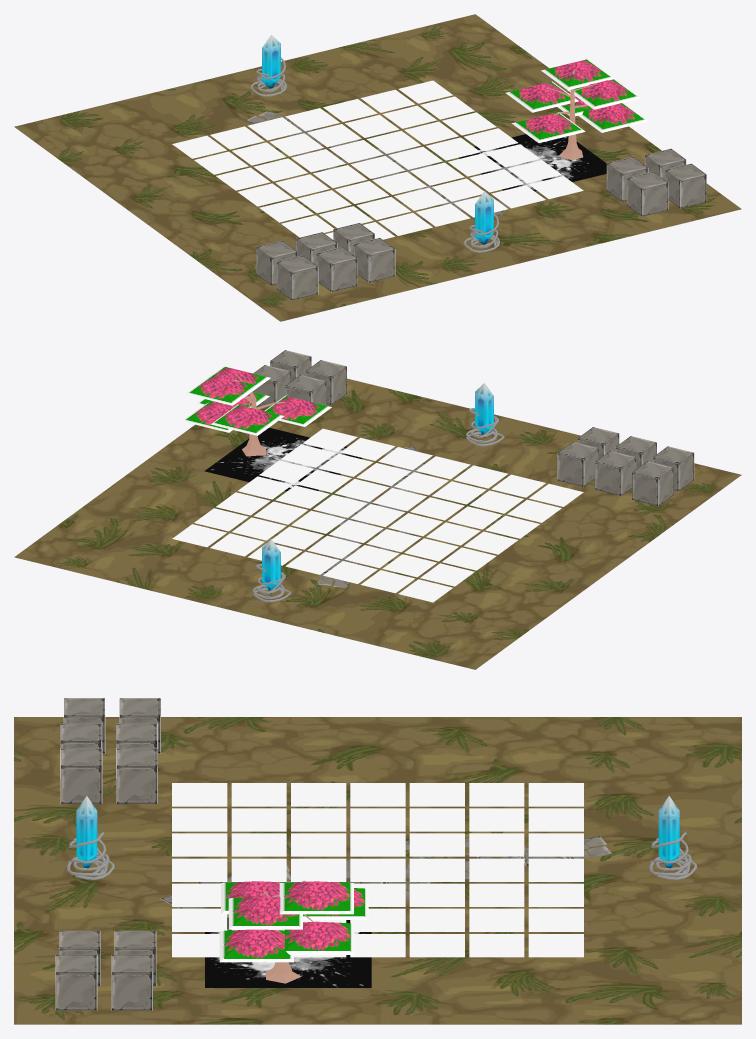
3 renders of one model, top to bottom at view 1: azimuth 30°, elevation 25°; view 2: azimuth 150°, elevation 25°; view 3: azimuth 270°, elevation 25°, orthographic. The views are drawn at different scales.
Visible parts, largest first — view 1: _ground, _grid1, Plane, Cube, Cube.003, Cube.001, Cube.004, Cube.002, crystal1.001, leaves1.004, crystal1, leaves1.003 (+9 smaller); view 2: _ground, _grid1, Plane, Cube.005, Cube.006, Cube.007, crystal1.001, crystal1, leaves1.005, leaves1.003, leaves1.004, Cube (+9 smaller); view 3: _ground, _grid1, Plane, leaves1.003, Cube.004, Cube.002, Cube.007, Cube.009, leaves1, leaves1.001, crystal1.001, crystal1 (+10 smaller).
Part boxes in pixels (x1,y1,x2,y2): _ground: [14, 14, 741, 321]; _grid1: [172, 80, 583, 239]; Plane: [458, 134, 606, 191]; Cube: [276, 255, 318, 300]; Cube.003: [627, 171, 668, 216]; Cube.001: [316, 247, 357, 291]; Cube.004: [665, 163, 706, 208]; Cube.002: [353, 238, 395, 282]; crystal1.001: [463, 191, 500, 252]; leaves1.004: [512, 112, 585, 142]; crystal1: [250, 35, 286, 96]; leaves1.003: [541, 59, 614, 90]; _ground: [14, 378, 741, 669]; _grid1: [172, 428, 583, 602]; Plane: [204, 427, 362, 491]; Cube.005: [632, 461, 673, 506]; Cube.006: [595, 451, 636, 495]; Cube.007: [557, 442, 598, 486]; crystal1.001: [465, 383, 504, 446]; crystal1: [252, 539, 291, 602]; leaves1.005: [211, 404, 284, 435]; leaves1.003: [186, 374, 259, 405]; leaves1.004: [264, 395, 331, 426]; Cube: [652, 446, 694, 491]; _ground: [14, 717, 741, 1024]; _grid1: [172, 783, 583, 957]; Plane: [205, 917, 371, 987]; leaves1.003: [279, 881, 353, 914]; Cube.004: [55, 955, 97, 1010]; Cube.002: [60, 748, 102, 803]; Cube.007: [116, 748, 157, 803]; Cube.009: [111, 955, 152, 1010]; leaves1: [219, 929, 293, 962]; leaves1.001: [280, 921, 354, 954]; crystal1.001: [67, 796, 114, 879]; crystal1: [649, 796, 697, 879].
Size of what is drawn, in the model's own units: 35 by 5.77 by 35.
8 materials, 6 textured.
